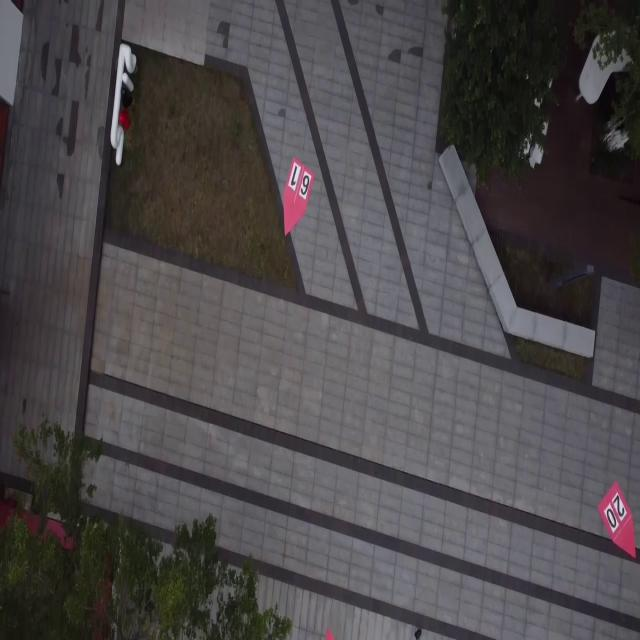-sign-: (597, 480, 636, 558), (282, 156, 314, 238), (324, 626, 335, 640)
